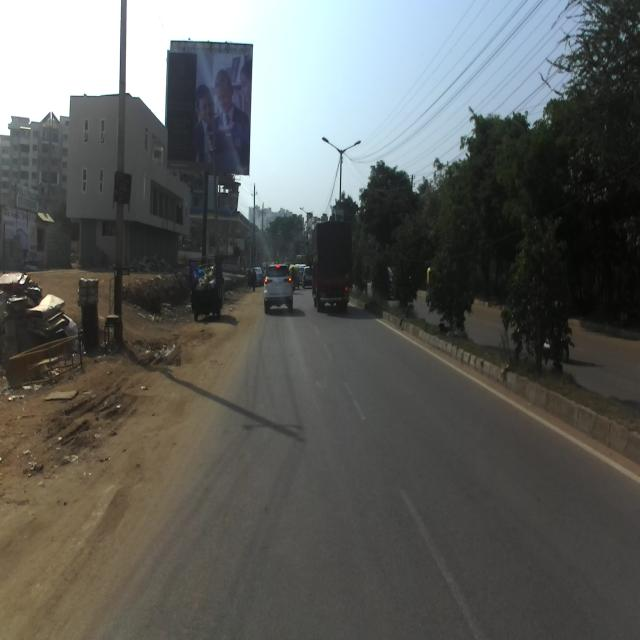car ahead at: (264, 261, 294, 315)
electric pole ahead at: (107, 0, 137, 349)
truck ahead at: (314, 214, 352, 316)
